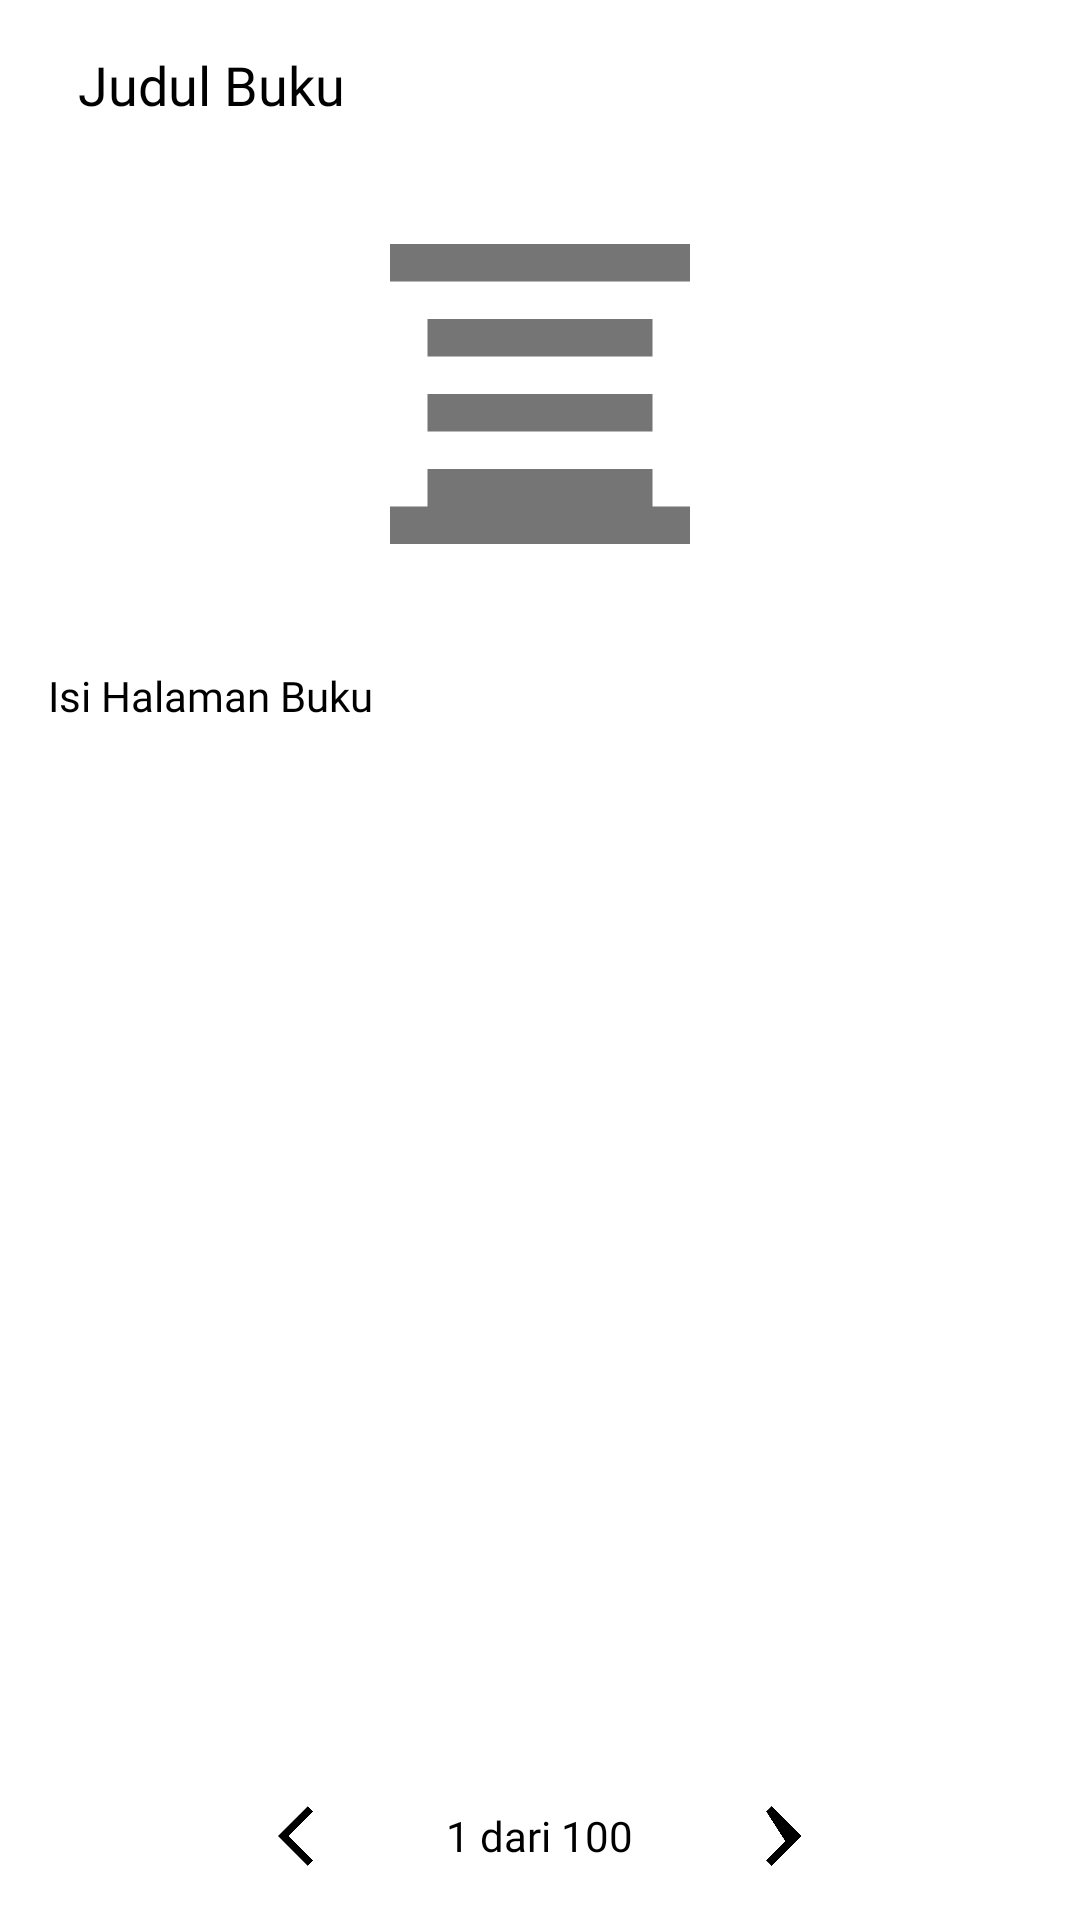

Icons on this 1080 × 1920 Android screen, each with the point to tap as point (x, y):
arrow left: point (295, 1836)
arrow right: point (783, 1836)
